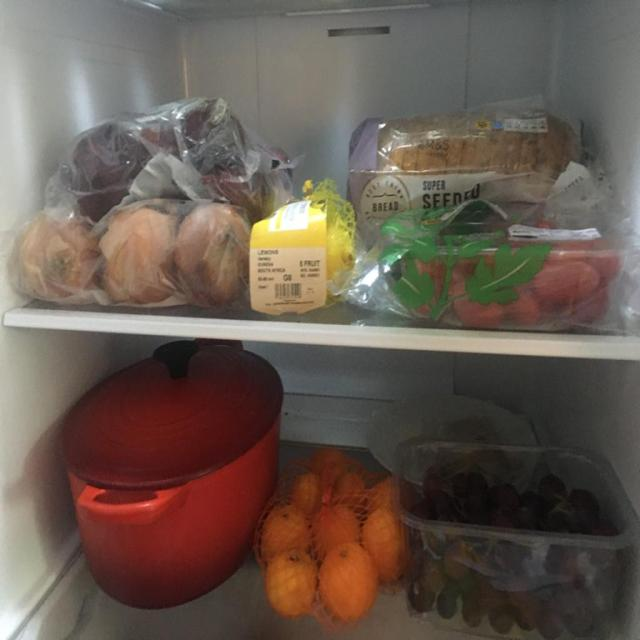Cebolla: (7, 203, 251, 304), (61, 99, 256, 214)
Limón: (257, 180, 358, 304)
bread: (354, 120, 585, 220)
orange: (257, 476, 403, 616)
